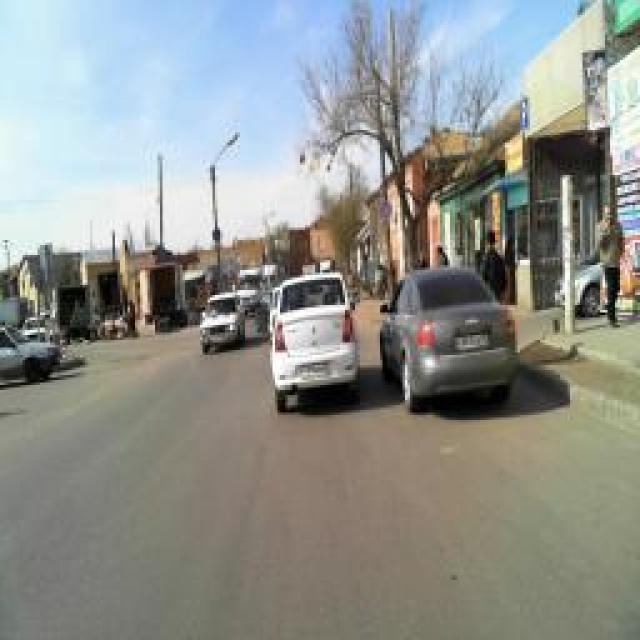sign: (380, 200, 392, 222), (211, 228, 221, 244), (158, 244, 168, 258)
